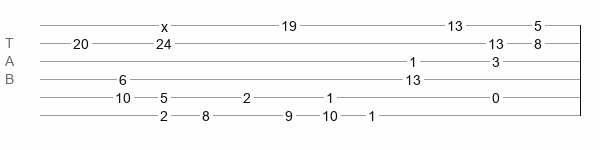0: (492, 90, 500, 100)
1: (326, 90, 334, 100), (368, 108, 376, 118), (409, 54, 417, 64)
10: (115, 90, 131, 100), (322, 108, 338, 118)
13: (405, 72, 421, 82), (447, 18, 463, 28), (488, 36, 504, 46)
19: (281, 18, 297, 28)
2: (160, 108, 168, 118), (243, 90, 251, 100)
20: (73, 36, 89, 46)
24: (156, 36, 172, 46)
3: (492, 54, 500, 64)
5: (160, 90, 168, 100), (534, 18, 542, 28)
6: (119, 72, 127, 82)
8: (202, 108, 210, 118), (534, 36, 542, 46)
9: (285, 108, 293, 118)
x: (161, 19, 168, 27)
